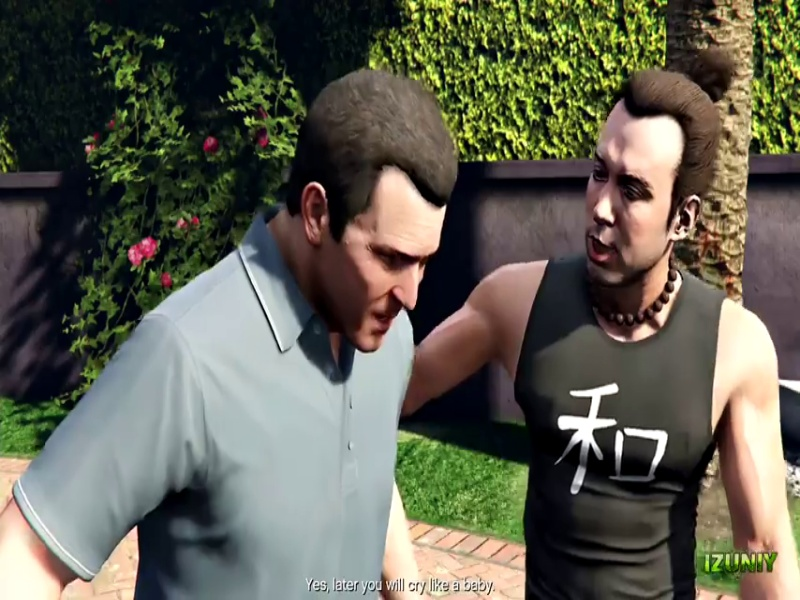human: (12, 50, 589, 596)
